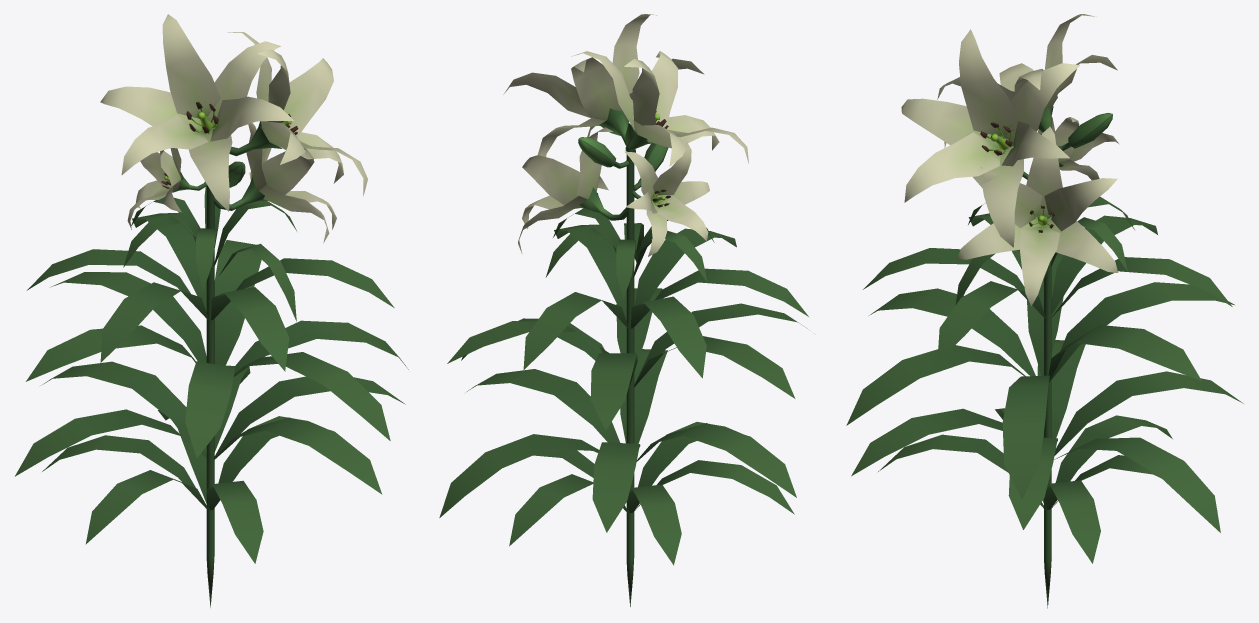
3 views of the same model, side by side, from view 1: azimuth 30°, elevation 25°; view 2: azimuth 150°, elevation 25°; view 3: azimuth 270°, elevation 25° (orthographic). The views are drawn at different scales.
Visible parts, largest first — view 1: base.539; view 2: base.539; view 3: base.539.
Part boxes in pixels (x1,y1,x2,y2): base.539: (15, 14, 408, 607); base.539: (439, 14, 808, 606); base.539: (846, 14, 1243, 608).
Bounding box in the file's own units: 0.3335 × 0.5 × 0.3088.
